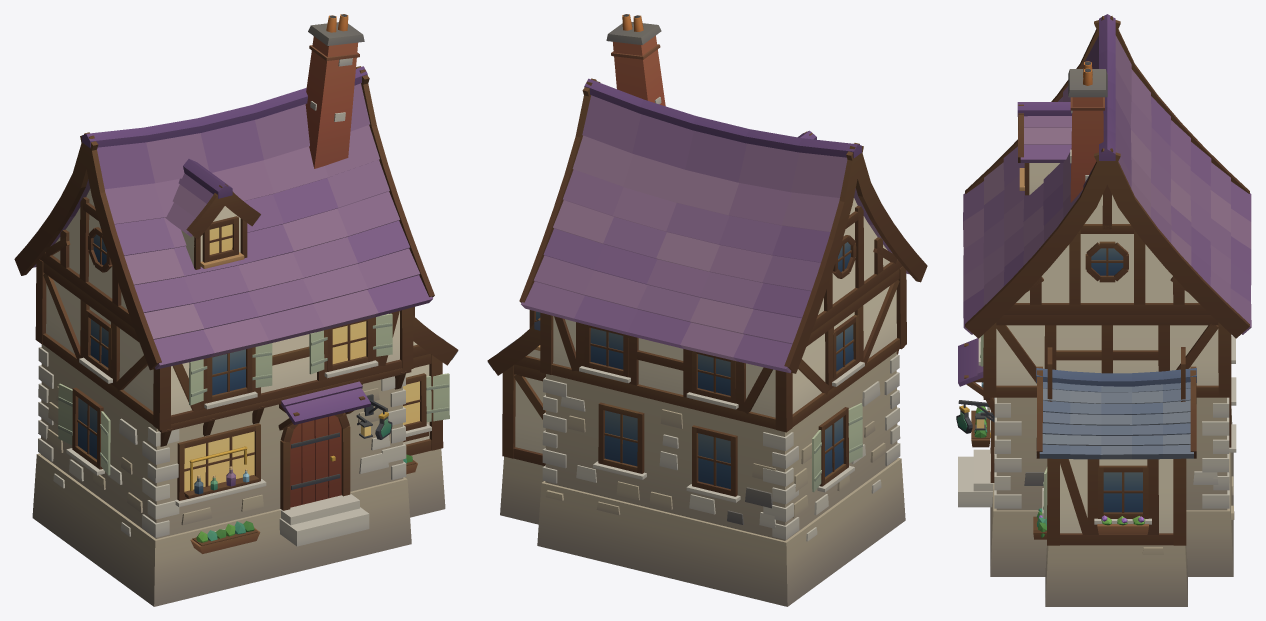
Rendered from workshop_facade.glb.
3 views of the same model, side by side, from view 1: azimuth 30°, elevation 25°; view 2: azimuth 150°, elevation 25°; view 3: azimuth 270°, elevation 25° (orthographic). The views are drawn at different scales.
Visible parts, largest first — view 1: workshop_facade; view 2: workshop_facade; view 3: workshop_facade.
Part boxes in pixels (<box>): workshop_facade: <box>14,14,458,606</box>; workshop_facade: <box>487,14,927,606</box>; workshop_facade: <box>956,14,1251,606</box>.
Size of the model in its own units: 29.29 by 41.16 by 22.05.
Materials: 1 (1 with a texture image).
